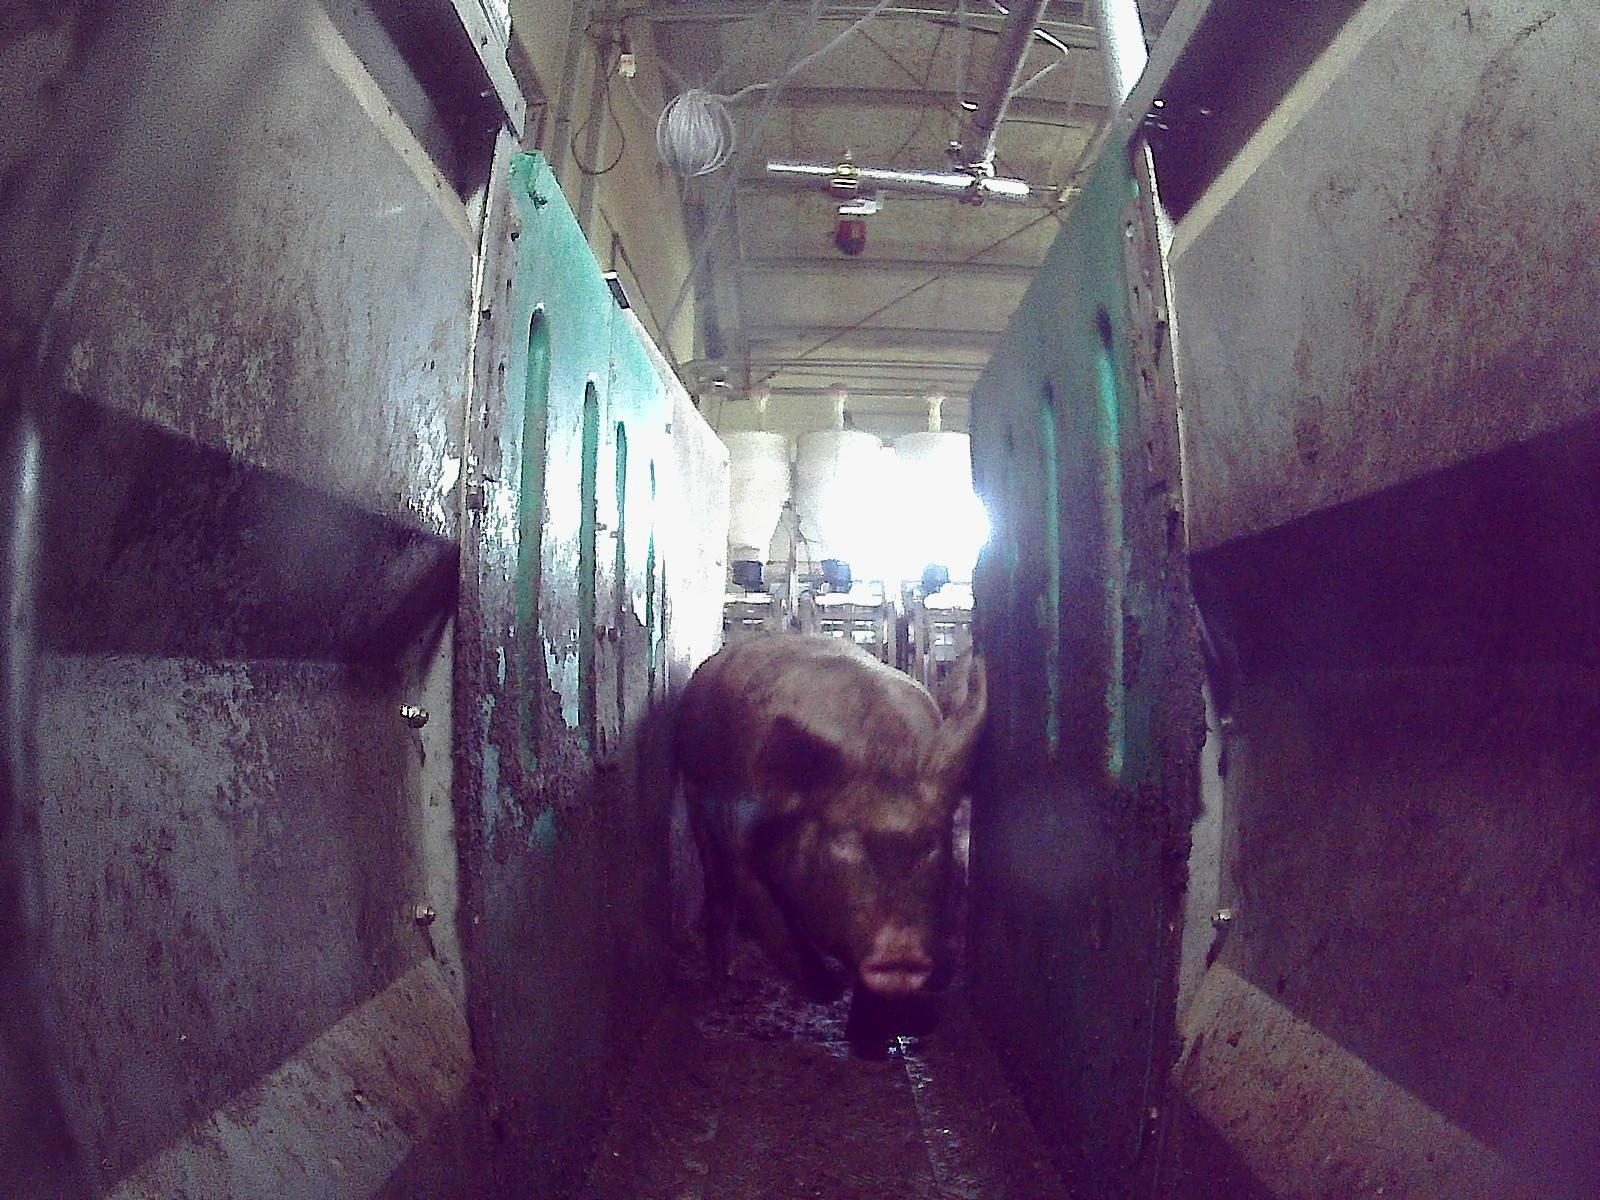Face: (788, 737, 948, 1002)
